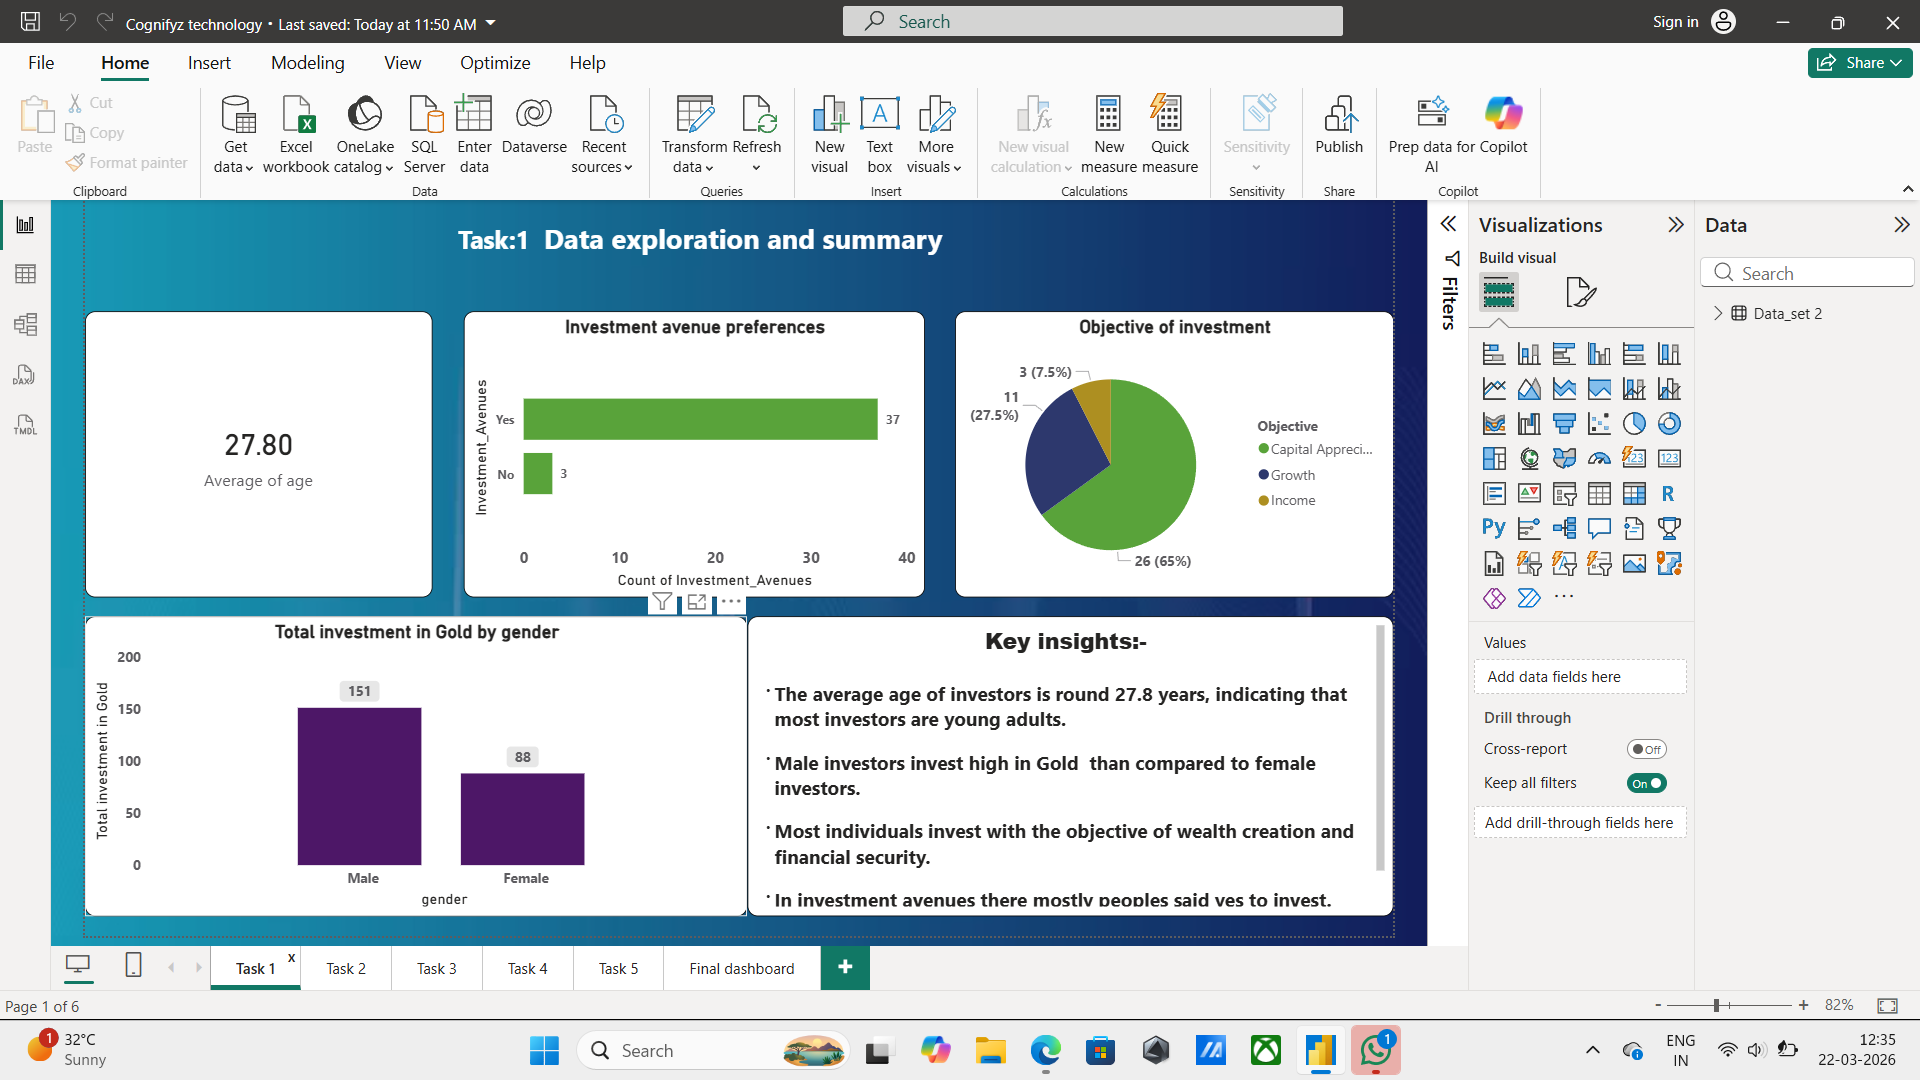

The dashboard page shown, as its layout file describes it:
{"tool":"powerbi","page":{"name":"Task 1","canvas":[1280,720],"ordinal":0},"visuals":[{"type":"card","fields":{"Values":["Avg(Data_set 2.age)"]},"box":[0,108.8,339.9,280],"z":0},{"type":"barChart","title":"Investment avenue preferences","fields":{"Category":["Data_set 2.Investment_Avenues"],"Y":["CountNonNull(Data_set 2.Investment_Avenues)"]},"box":[370.5,108.8,451.2,280],"z":1000},{"type":"pieChart","title":"Objective of investment","fields":{"Category":["Data_set 2.Objective"],"Y":["CountNonNull(Data_set 2.Objective)"]},"box":[851.1,108.8,429.2,280],"z":2000},{"type":"columnChart","fields":{"Category":["Data_set 2.gender"],"Y":["Sum(Data_set 2.Gold)"]},"box":[0,407.2,648.1,293.5],"z":3000},{"type":"textbox","box":[339.9,14.7,550.3,74.6],"z":4000},{"type":"textbox","box":[648.1,407.2,632.2,293.5],"z":5000}]}

Visuals, with their boxes on the page's 1280x720 design canvas (x1, y1, x2, y2). These are canvas units, not pixel positions in the 1920x1080 screenshot, which may show the page scaled, cropped or inside an application window:
card - Avg(Data_set 2.age): (0, 109, 340, 389)
"Investment avenue preferences" barChart: (370, 109, 822, 389)
"Objective of investment" pieChart: (851, 109, 1280, 389)
columnChart - Data_set 2.gender x Sum(Data_set 2.Gold): (0, 407, 648, 701)
textbox: (340, 15, 890, 89)
textbox: (648, 407, 1280, 701)
